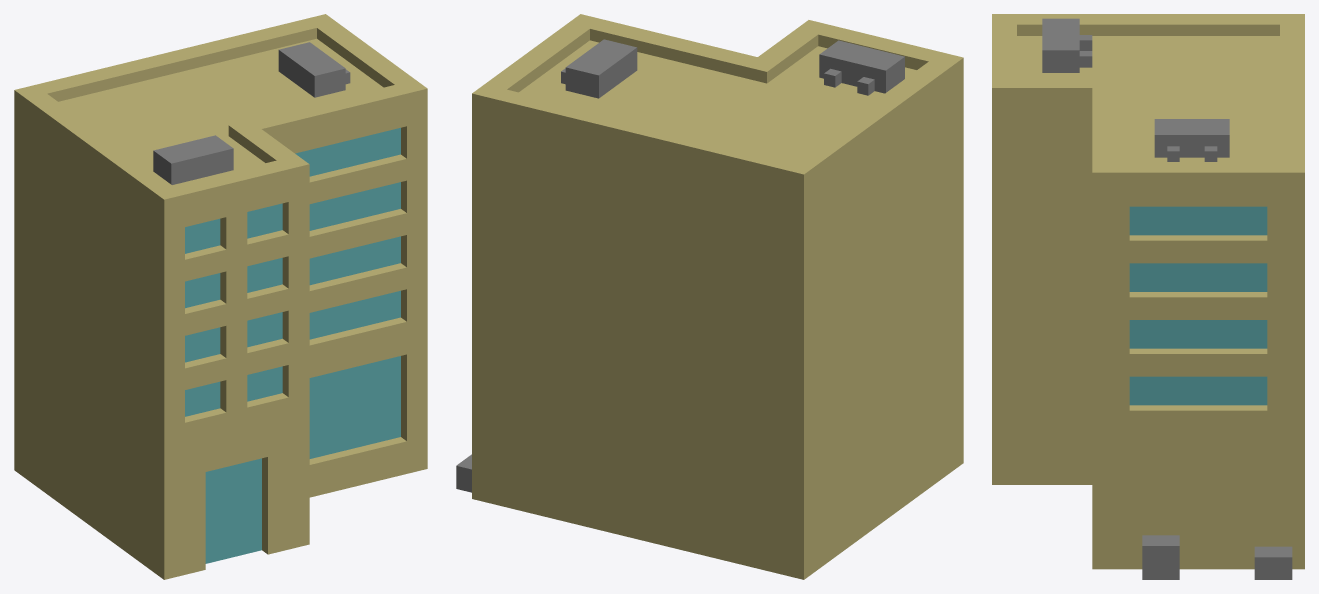
Rendered from Building04.fbx.
3 views of the same model, side by side, from view 1: azimuth 30°, elevation 25°; view 2: azimuth 150°, elevation 25°; view 3: azimuth 270°, elevation 25° (orthographic). The views are drawn at different scales.
Visible parts, largest first — view 1: ObjObject.007; view 2: ObjObject.007; view 3: ObjObject.007.
Part boxes in pixels (left/top/right/bottom): ObjObject.007: left=14, top=14, right=427, bottom=579; ObjObject.007: left=456, top=14, right=963, bottom=579; ObjObject.007: left=992, top=14, right=1304, bottom=579.
Bounding box in the file's own units: 320 × 250 × 360.
1 material, 1 textured.
